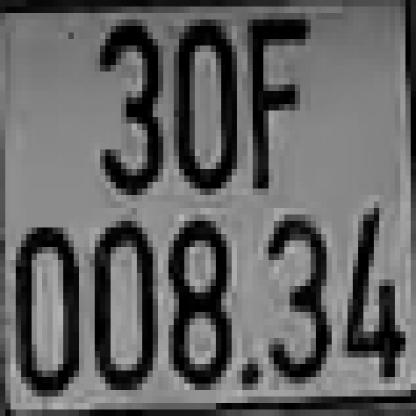0: (174, 19, 232, 195), (16, 228, 79, 390), (94, 221, 152, 383)
3: (95, 26, 163, 195), (264, 208, 322, 377)
4: (342, 208, 400, 370)
8: (168, 214, 226, 384)
F: (242, 20, 306, 188)
